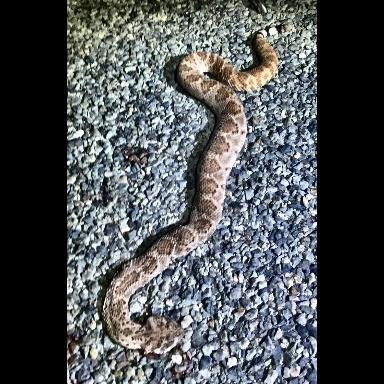snake: (103, 33, 278, 369)
